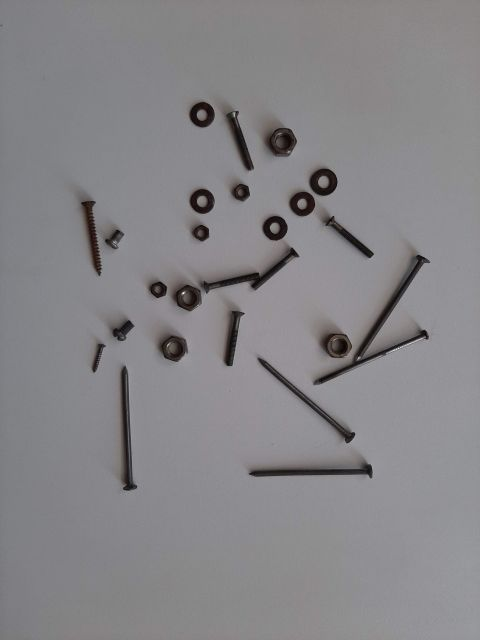gwozdz: (335, 215, 425, 365), (245, 335, 355, 445), (315, 315, 425, 425), (95, 355, 155, 505), (215, 445, 385, 495)
nakretka: (135, 305, 185, 365), (265, 95, 295, 175), (155, 275, 205, 305)
podkladka: (305, 155, 355, 205), (275, 185, 325, 235), (175, 75, 215, 135), (245, 205, 295, 245), (175, 175, 215, 215)
sruba: (185, 245, 265, 305), (305, 205, 385, 265), (215, 95, 265, 185), (245, 235, 305, 305), (205, 305, 245, 365), (95, 295, 135, 355)
